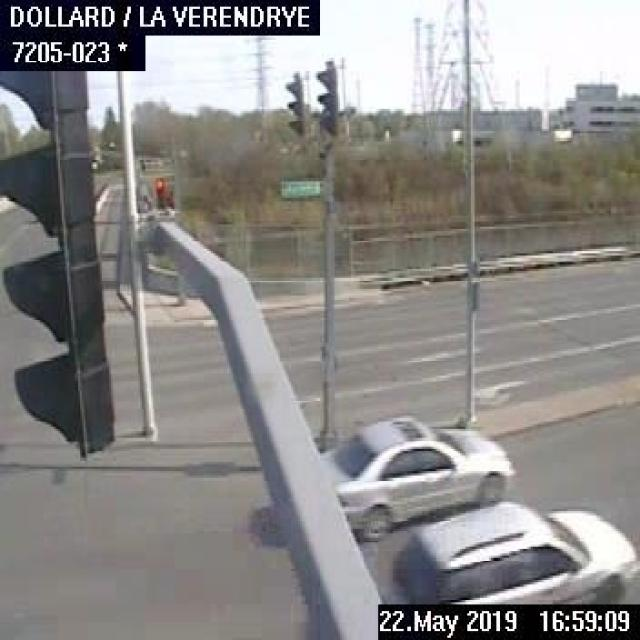vehicle: (300, 412, 522, 542), (390, 498, 638, 602)
